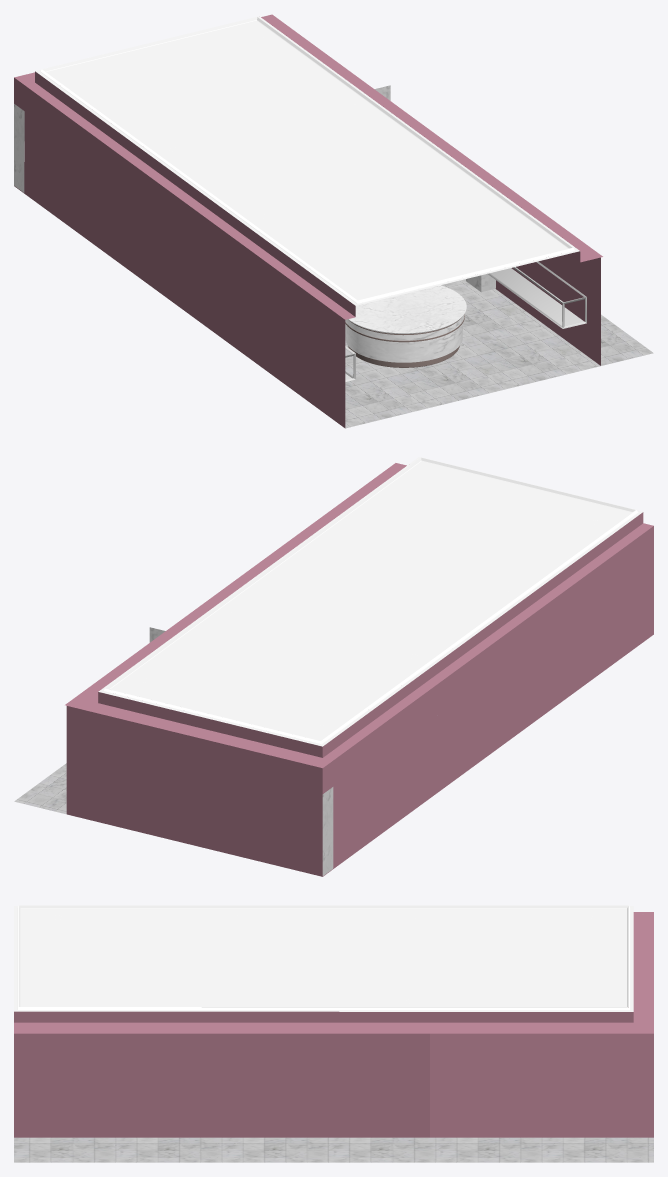
File: Store.glb
3 views of the same model, one above another, from view 1: azimuth 30°, elevation 25°; view 2: azimuth 150°, elevation 25°; view 3: azimuth 270°, elevation 25° (orthographic). The views are drawn at different scales.
Parts seen in each view (by area): view 1: Roof, Wall-1, Floor, Wall-2, Table, Shelf_right_1.002, Shelf, Pillars.003; view 2: Roof, Wall-1, Wall-3, Wall-2, Floor, Pillars.003; view 3: Wall-2, Roof, Floor, Wall-3.
Part boxes in pixels (x1,y1,x2,y2): Roof: (35,16,579,305); Wall-1: (14,71,355,428); Floor: (345,279,653,428); Wall-2: (266,14,602,365); Table: (345,285,466,367); Shelf_right_1.002: (490,268,584,326); Shelf: (345,261,586,381); Pillars.003: (14,104,24,192); Roof: (98,457,642,746); Wall-1: (322,512,653,876); Wall-3: (66,692,322,876); Wall-2: (65,463,406,705); Floor: (14,763,66,814); Pillars.003: (322,787,333,875); Wall-2: (14,1011,653,1137); Roof: (14,905,633,1011); Floor: (14,1137,653,1162); Wall-3: (633,912,653,1033).
Bounding box in the file's own units: 14.41 × 5.47 × 26.76.
12 materials, 5 textured.
